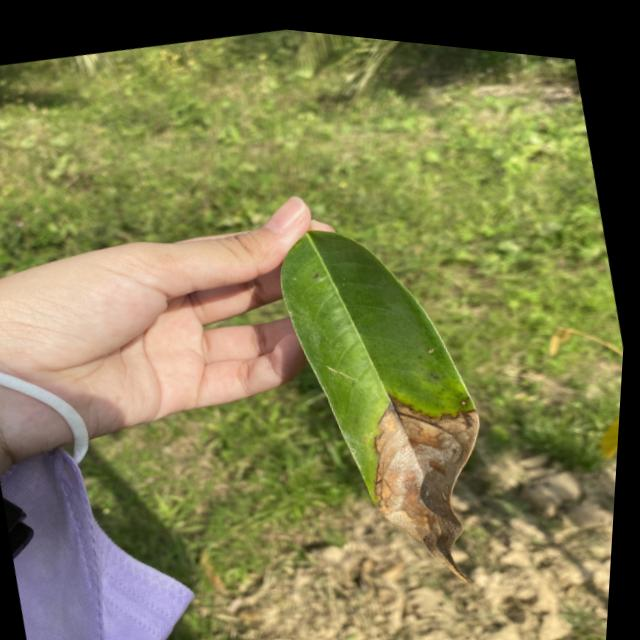Leaf Blight: (323, 323, 574, 626)
